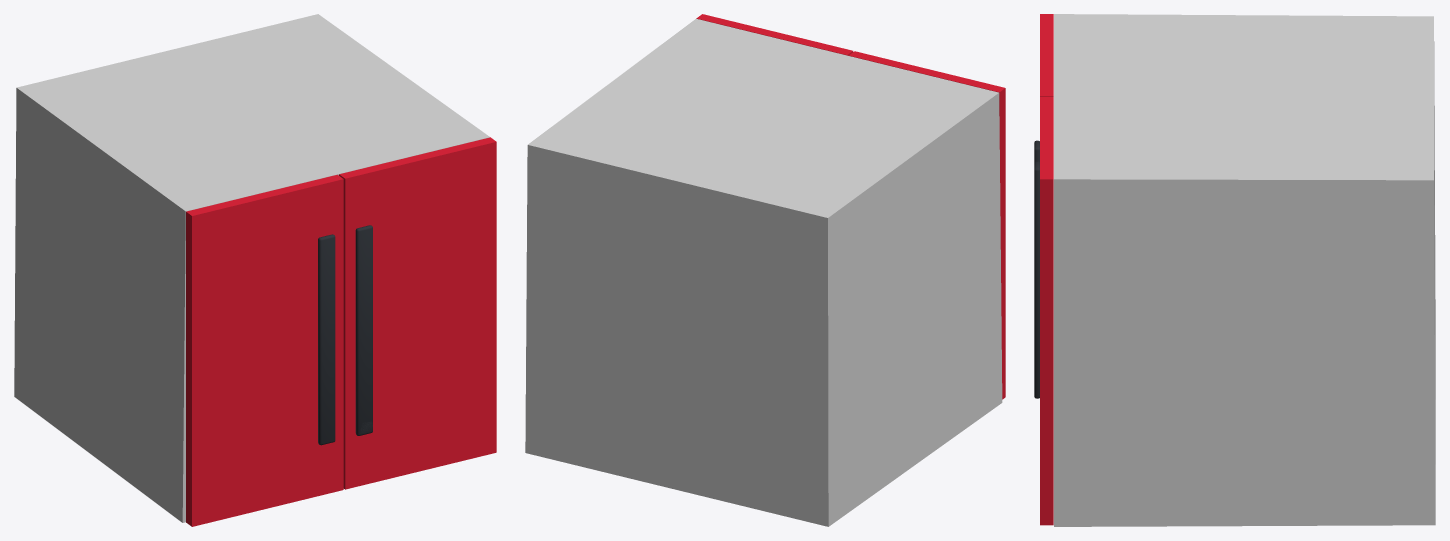
Rendered from EnemyStart.fbx.
The picture shows the model from 3 angles, left to right: view 1: azimuth 30°, elevation 25°; view 2: azimuth 150°, elevation 25°; view 3: azimuth 270°, elevation 25°; orthographic projection. The views are drawn at different scales.
Parts seen in each view (by area): view 1: Walls, Door, Cube.002_cell.029, Cube.002_cell.019, Cube.002_cell.009, Cube.002_cell.040, Cube.002_cell.011, Cube.002_cell.042, Cube.002_cell.047, Cube.002_cell.027; view 2: Walls, Door; view 3: Walls, Door, Cube.002_cell.011, Cube.002_cell.047, Cube.002_cell.035, Cube.002_cell.040, Cube.002_cell.042, Cube.002_cell.019.
Part boxes in pixels (bbox=[...]): Walls: bbox=[14, 14, 489, 522]; Door: bbox=[186, 137, 496, 526]; Cube.002_cell.029: bbox=[192, 409, 277, 518]; Cube.002_cell.019: bbox=[199, 195, 262, 279]; Cube.002_cell.009: bbox=[192, 300, 272, 406]; Cube.002_cell.040: bbox=[405, 172, 483, 280]; Cube.002_cell.011: bbox=[436, 313, 487, 384]; Cube.002_cell.042: bbox=[253, 180, 322, 249]; Cube.002_cell.047: bbox=[462, 138, 496, 209]; Cube.002_cell.027: bbox=[204, 249, 253, 300]; Walls: bbox=[525, 18, 1002, 526]; Door: bbox=[696, 14, 1005, 399]; Walls: bbox=[1054, 14, 1435, 526]; Door: bbox=[1034, 14, 1053, 455]; Cube.002_cell.011: bbox=[1040, 377, 1053, 525]; Cube.002_cell.047: bbox=[1040, 161, 1053, 260]; Cube.002_cell.035: bbox=[1040, 295, 1053, 386]; Cube.002_cell.040: bbox=[1040, 259, 1053, 302]; Cube.002_cell.042: bbox=[1040, 52, 1053, 86]; Cube.002_cell.019: bbox=[1040, 18, 1053, 52].
Size of the model in its own units: 643 by 614 by 646.
